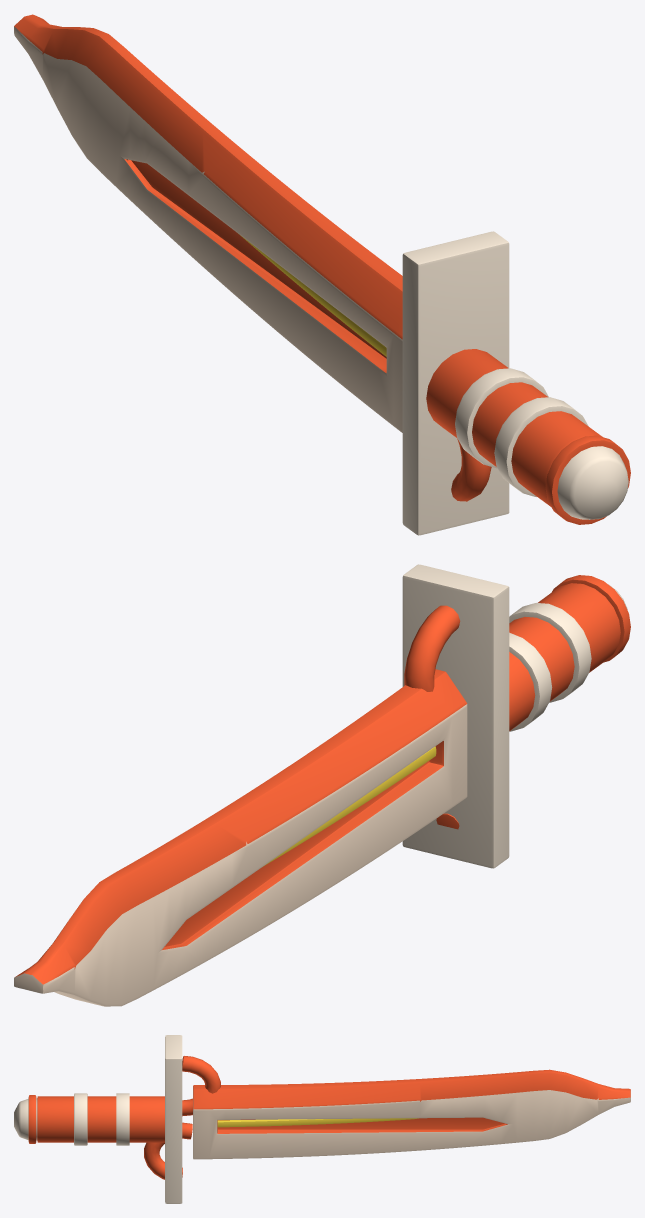
Rendered from Sword_AshenSaber.glb.
3 views of the same model, one above another, from view 1: azimuth 30°, elevation 25°; view 2: azimuth 150°, elevation 25°; view 3: azimuth 270°, elevation 25° (orthographic). The views are drawn at different scales.
Parts seen in each view (by area): view 1: Sword_AshenSaber; view 2: Sword_AshenSaber; view 3: Sword_AshenSaber.
Boxes of the visible parts, x1,y1,x2,y2 form: Sword_AshenSaber: [14, 14, 630, 535]; Sword_AshenSaber: [14, 564, 630, 1006]; Sword_AshenSaber: [14, 1035, 630, 1203].
Bounding box in the file's own units: 0.092 × 0.26 × 1.
1 material, 1 textured.
